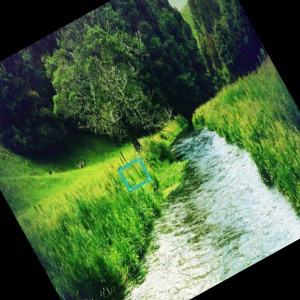square: (116, 157, 153, 192)
